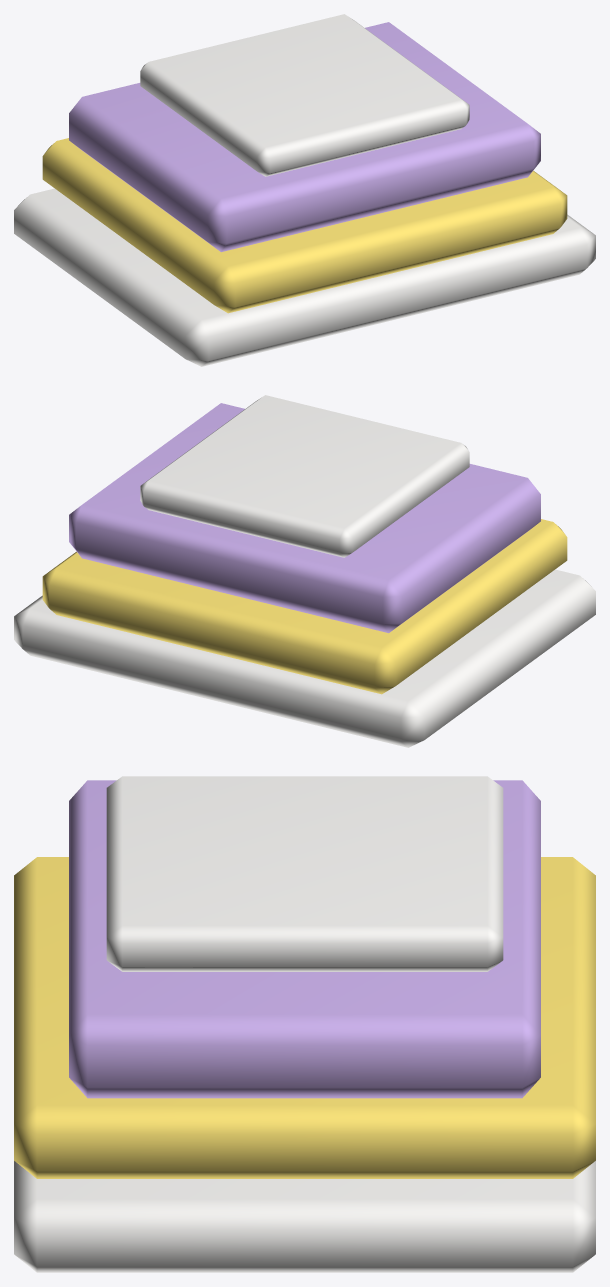
File: Linen_2.glb
The picture shows the model from 3 angles, top to bottom: view 1: azimuth 30°, elevation 25°; view 2: azimuth 150°, elevation 25°; view 3: azimuth 270°, elevation 25°; orthographic projection. The views are drawn at different scales.
Visible parts, largest first — view 1: Linen_2; view 2: Linen_2; view 3: Linen_2.
Boxes of the visible parts, left/top/right/bottom form: Linen_2: left=14, top=14, right=595, bottom=366; Linen_2: left=14, top=395, right=595, bottom=747; Linen_2: left=14, top=776, right=595, bottom=1272.
Size of the model in its own units: 0.4739 by 0.1956 by 0.3719.
1 material, 1 textured.
